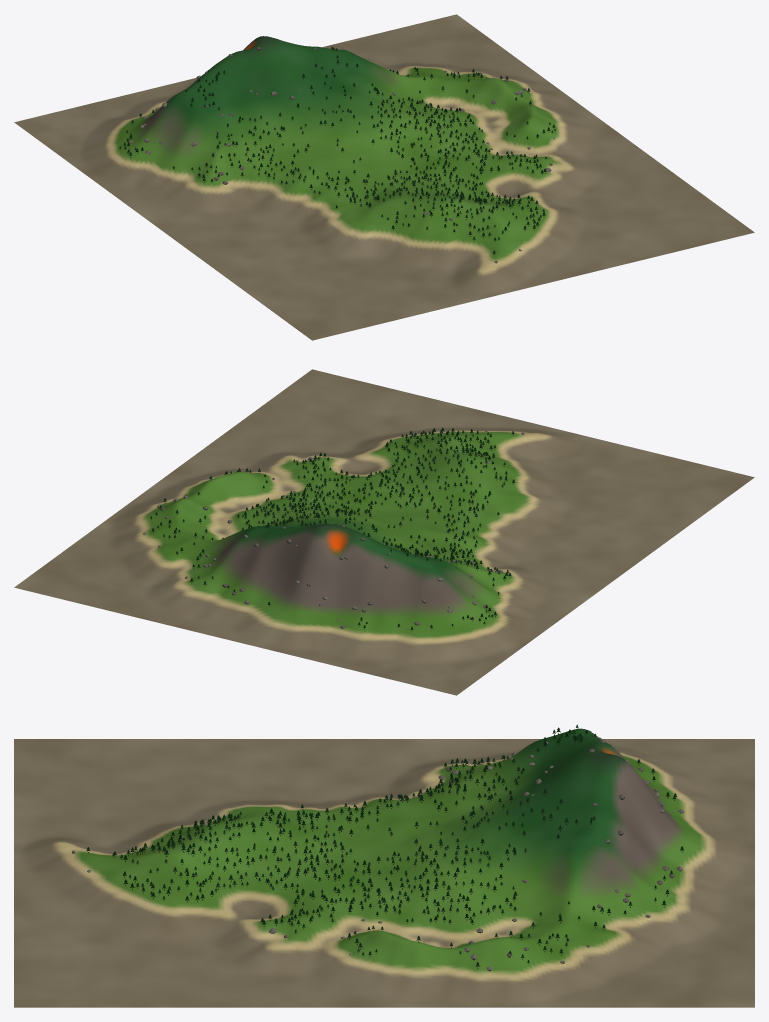
File: island.glb
The picture shows the model from 3 angles, top to bottom: view 1: azimuth 30°, elevation 25°; view 2: azimuth 150°, elevation 25°; view 3: azimuth 270°, elevation 25°; orthographic projection. The views are drawn at different scales.
Parts seen in each view (by area): view 1: Terrain, Trees, Rocks; view 2: Terrain, Trees, Rocks; view 3: Terrain, Trees, Rocks.
Boxes of the visible parts, bbox=[...] form: Terrain: bbox=[14, 14, 754, 340]; Trees: bbox=[119, 46, 555, 255]; Rocks: bbox=[129, 47, 554, 263]; Terrain: bbox=[14, 369, 754, 695]; Trees: bbox=[150, 427, 514, 631]; Rocks: bbox=[143, 430, 524, 628]; Terrain: bbox=[14, 728, 754, 1007]; Trees: bbox=[86, 724, 683, 968]; Rocks: bbox=[72, 730, 684, 971].
Size of what is drawn, in the model's own units: 480 by 83.33 by 560.
